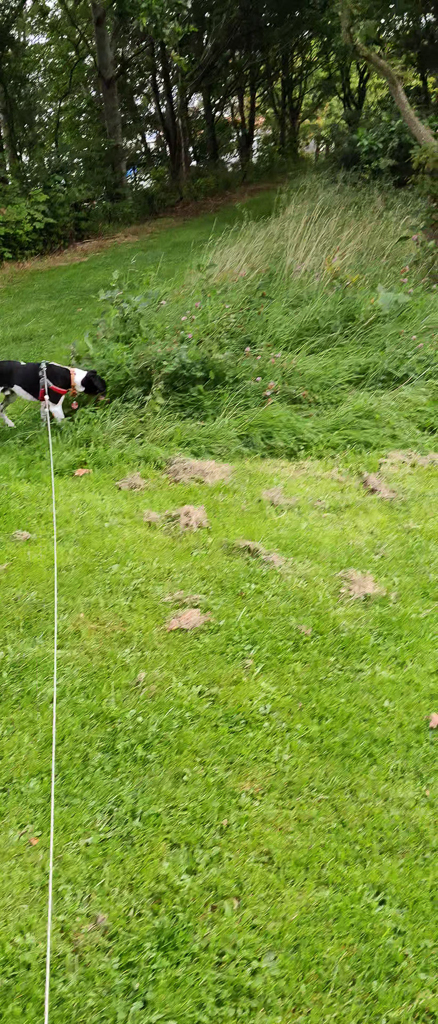Dog: (0, 352, 121, 437)
